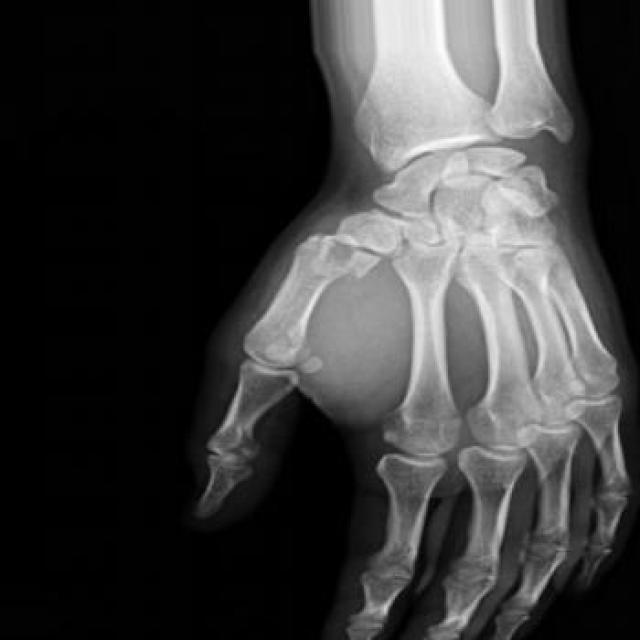Fracture: (328, 239, 387, 284)
